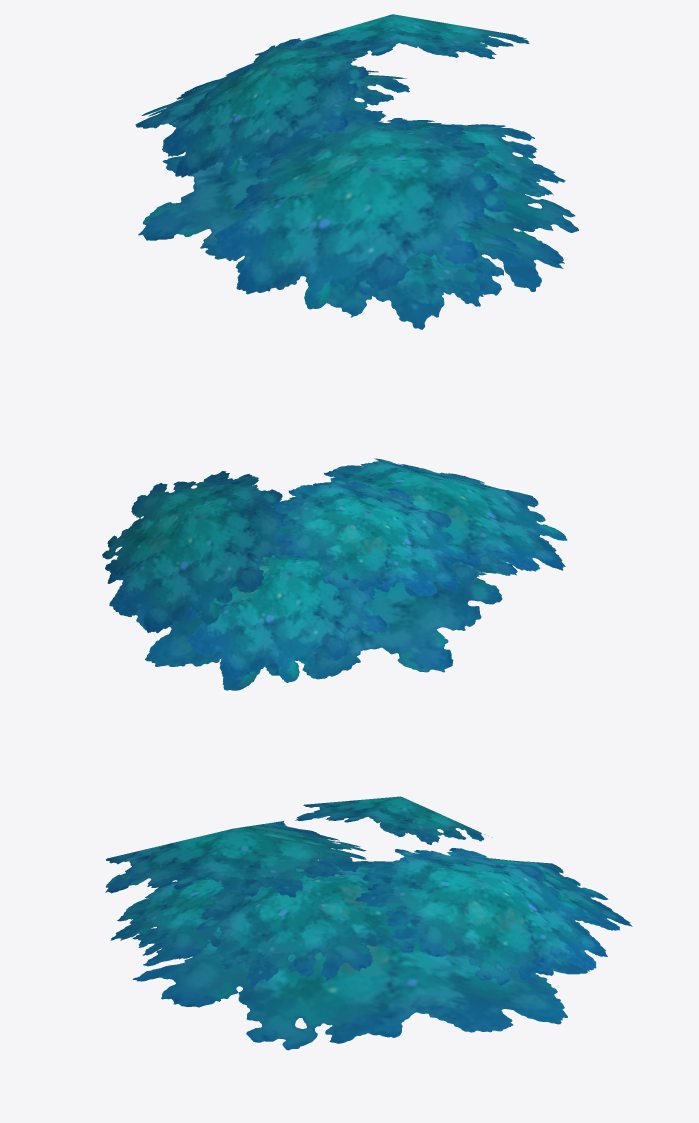
The model's file is nameikexingcao.FBX.
3 views of the same model, one above another, from view 1: azimuth 30°, elevation 25°; view 2: azimuth 150°, elevation 25°; view 3: azimuth 270°, elevation 25° (orthographic). The views are drawn at different scales.
Parts seen in each view (by area): view 1: diqiuchangjing_guanmu02; view 2: diqiuchangjing_guanmu02; view 3: diqiuchangjing_guanmu02.
Boxes of the visible parts, <box> form: diqiuchangjing_guanmu02: <box>135,14,578,329</box>; diqiuchangjing_guanmu02: <box>102,458,567,690</box>; diqiuchangjing_guanmu02: <box>105,796,632,1050</box>.
Size of the model in its own units: 629 by 191 by 666.
